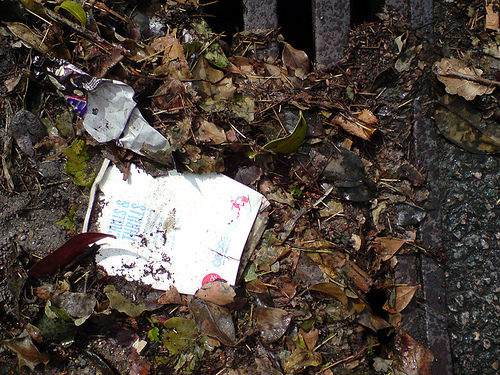litter: (85, 156, 268, 295), (30, 54, 170, 152)
